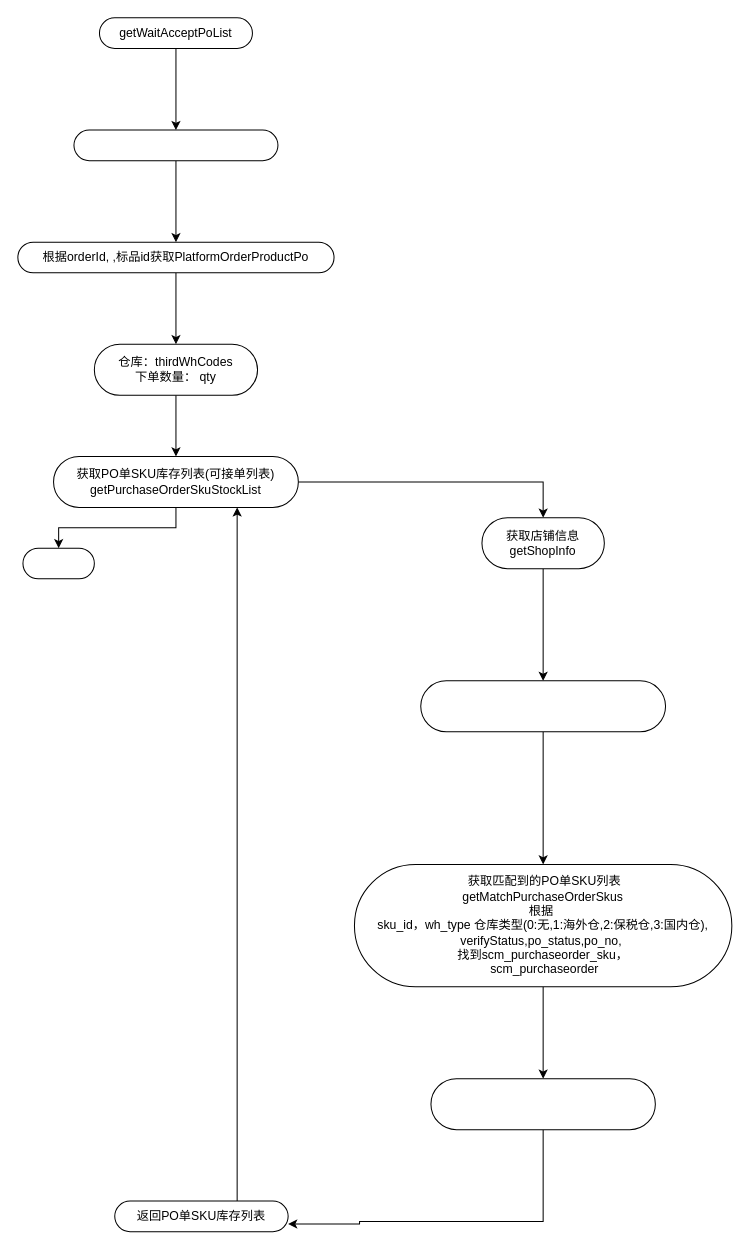
Image size: 750x1251. Some labels were removed from this diagram. The shapes that lost their labels are listed below. From the top down, each one's centre as x and y in pixels, then its label:
At (x=175, y=145): "根据orderId, PlatformOrderPo".
At (x=58, y=563): "End".
At (x=543, y=706): "获取可接单PO单SKU库存列表 getMatchPurchaseOrderSkuStockList".
At (x=542, y=1104): "根据po单号，skuid 获取库存列表 selectByPoNoList".
